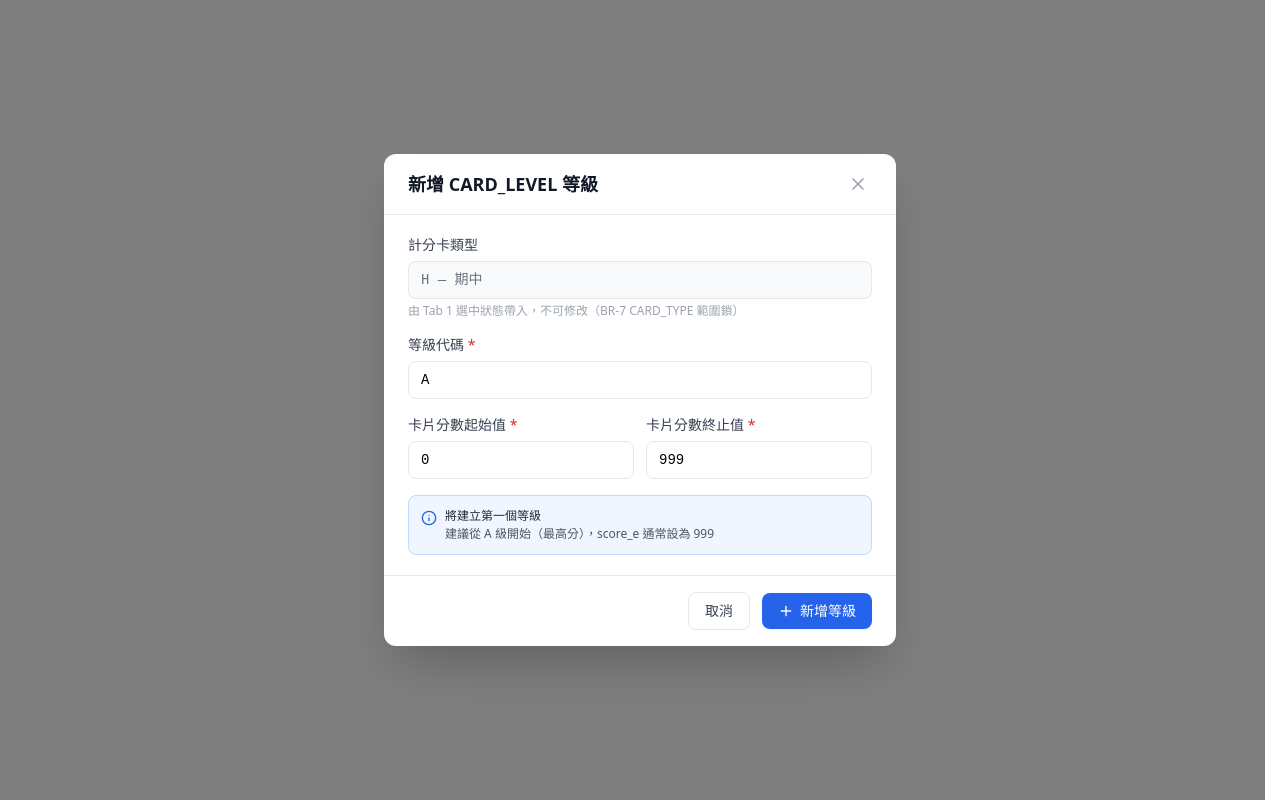
Test: CreateCardLevelModal — F055 v1.5 › TS-F055-M09：422 VALIDATION_ERROR → 通用錯誤訊息，modal 不關閉
This screenshot has width=1280, height=800.
Step 1. Click the button with test id "level-modal-submit" → (817, 611), box [762, 593, 872, 629]
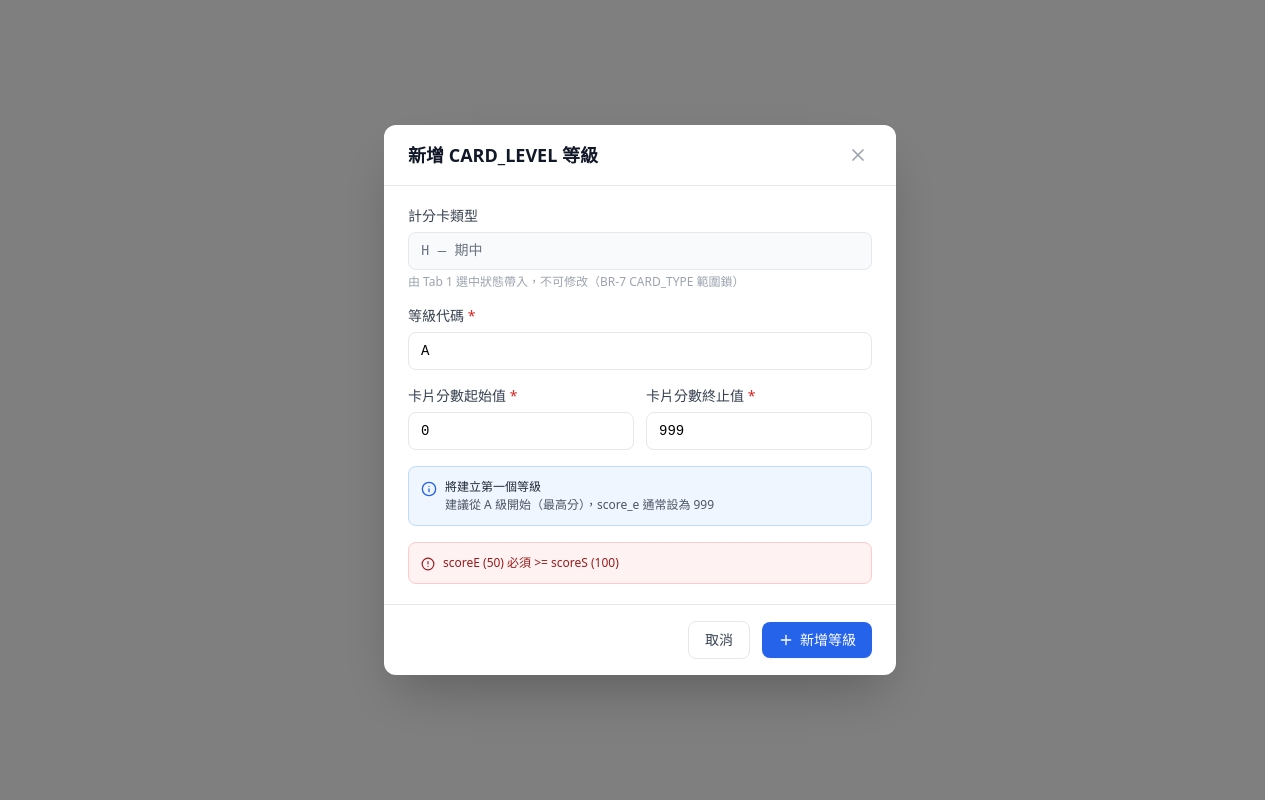
Check: the message "scoreE (50) 必須 >= scoreS (100)" is shown, box [408, 542, 872, 584]
